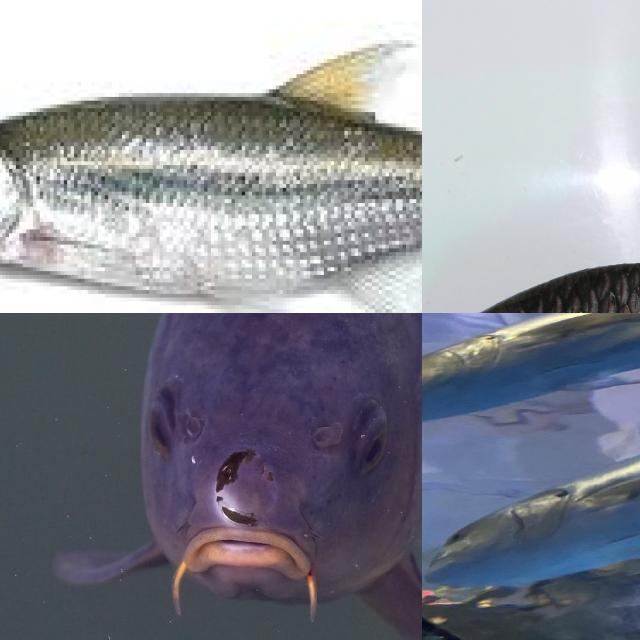fish: (0, 0, 422, 313), (129, 313, 422, 640), (422, 313, 640, 429), (422, 221, 640, 313)
